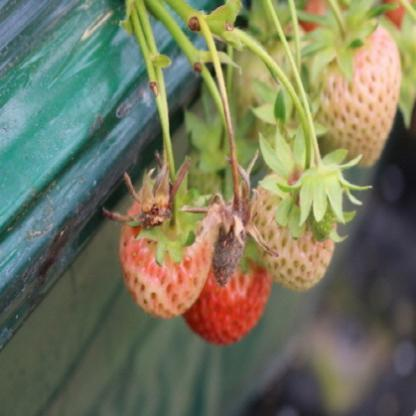Strawberry_Gray_Mold: (207, 154, 280, 288)
